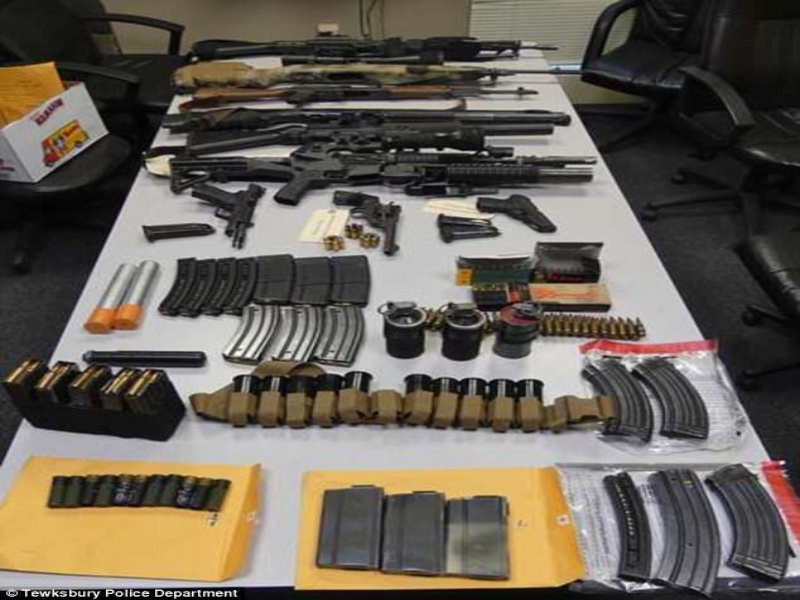gun: (155, 150, 611, 205), (155, 107, 582, 149), (195, 32, 562, 68), (172, 59, 577, 82), (192, 82, 561, 105), (328, 183, 412, 255), (184, 173, 264, 247), (474, 190, 568, 234)
